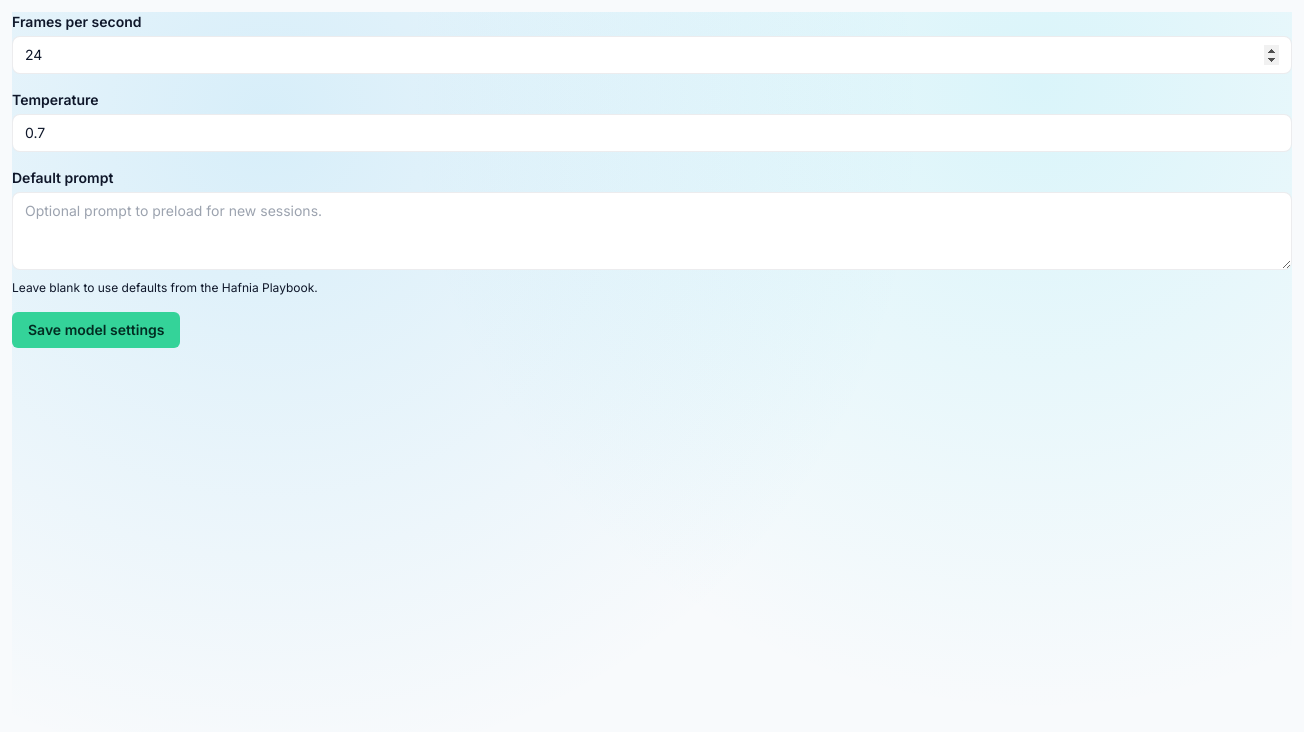
Test case: saas-settings ModelParamsForm › shows_success_toast_when_submission_succeeds
Click the button "Save model settings" at (96, 330), box [12,312,180,348]
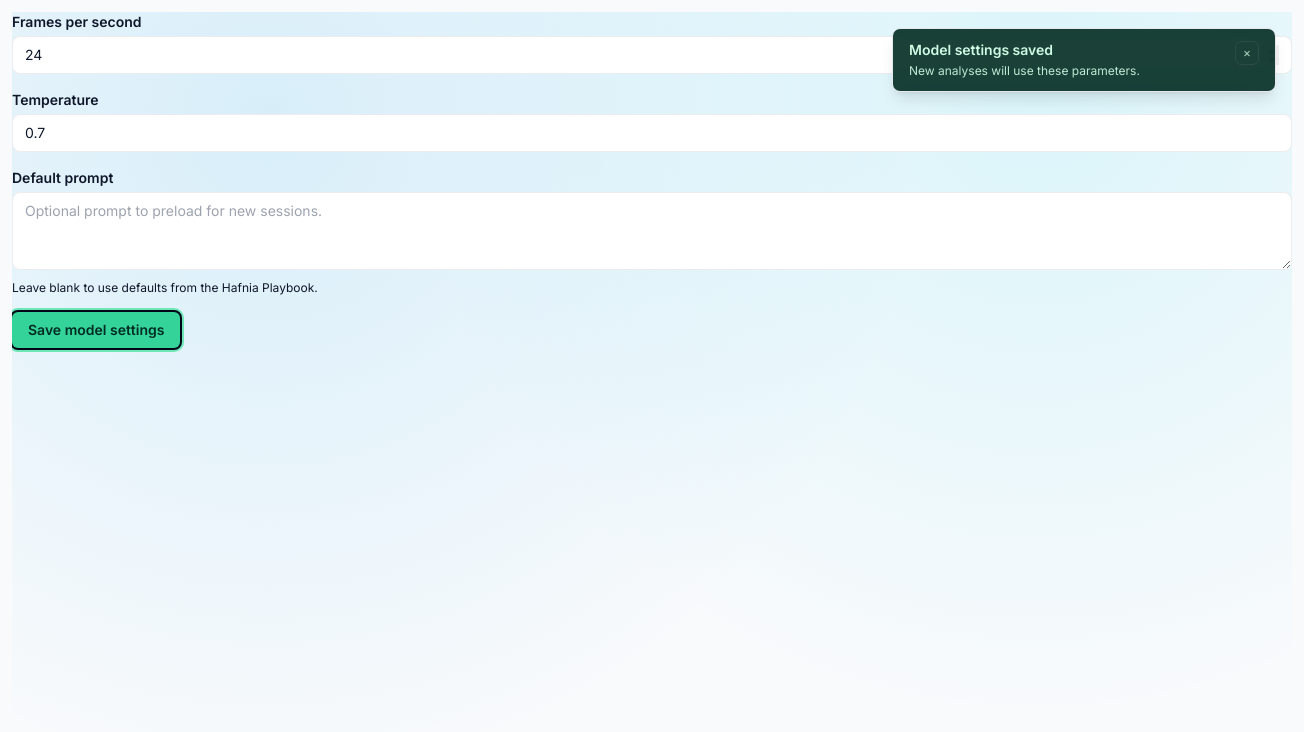
Now the text "Model settings saved" is shown, box [909,41,1053,58]
